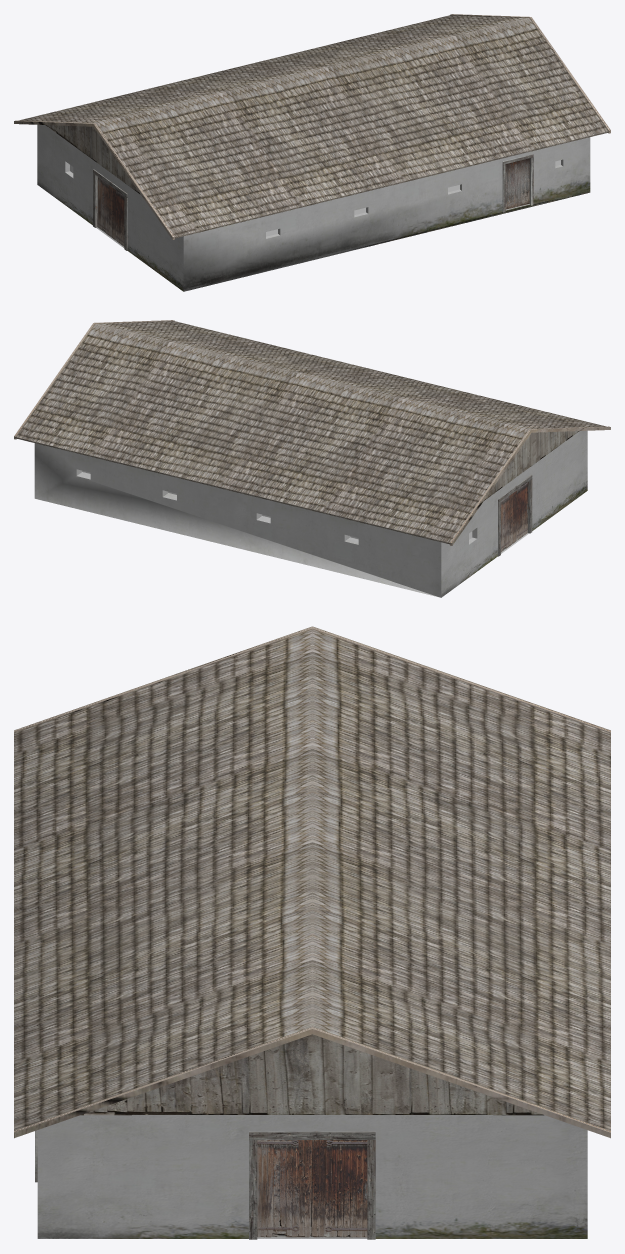
File: granja.glb
3 views of the same model, one above another, from view 1: azimuth 30°, elevation 25°; view 2: azimuth 150°, elevation 25°; view 3: azimuth 270°, elevation 25° (orthographic). The views are drawn at different scales.
Parts seen in each view (by area): view 1: stall; view 2: stall; view 3: stall.
Part boxes in pixels (box(x1,y1,x2,y2)): stall: box(14, 14, 610, 291); stall: box(14, 320, 610, 597); stall: box(14, 626, 610, 1239).
Size of the model in its own units: 17.31 by 4.48 by 10.85.
3 materials, 3 textured.
